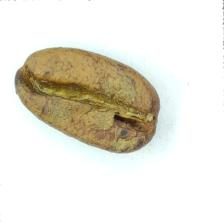NG: (81, 83, 152, 149)
